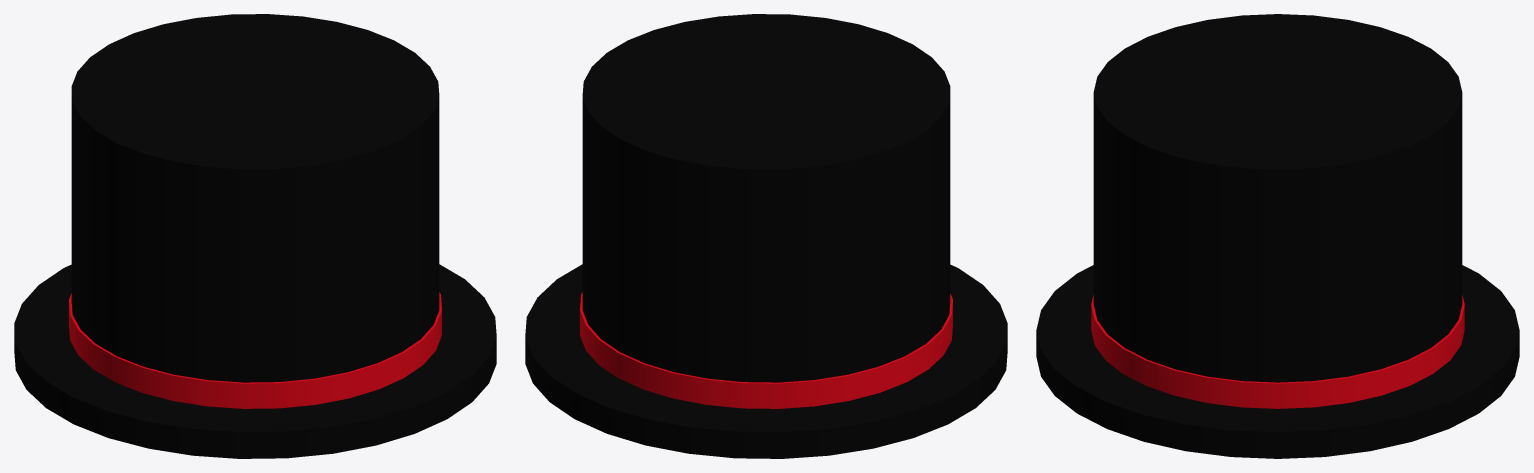
The picture shows the model from 3 angles, left to right: view 1: azimuth 30°, elevation 25°; view 2: azimuth 150°, elevation 25°; view 3: azimuth 270°, elevation 25°; orthographic projection.
Visible parts, largest first — view 1: Cylinder, Cylinder.001; view 2: Cylinder, Cylinder.001; view 3: Cylinder, Cylinder.001.
Part boxes in pixels (left/top/right/bottom): Cylinder: left=14, top=14, right=496, bottom=458; Cylinder.001: left=69, top=292, right=441, bottom=408; Cylinder: left=525, top=14, right=1007, bottom=458; Cylinder.001: left=580, top=292, right=952, bottom=408; Cylinder: left=1036, top=14, right=1519, bottom=458; Cylinder.001: left=1091, top=295, right=1464, bottom=408.
Bounding box in the file's own units: 200 × 121 × 200.
